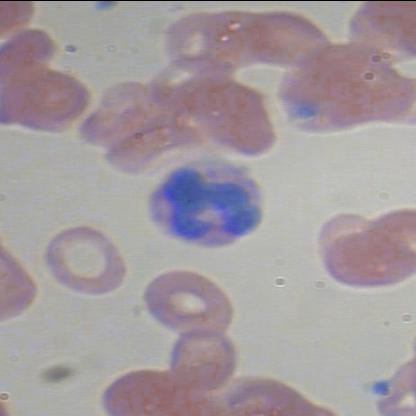Platelets: (364, 377, 394, 402), (88, 1, 122, 14)
RBC: (35, 220, 133, 308), (139, 266, 232, 342), (0, 63, 93, 135), (234, 8, 331, 70), (320, 229, 415, 292), (167, 320, 241, 396)
WBC: (141, 136, 277, 256)
